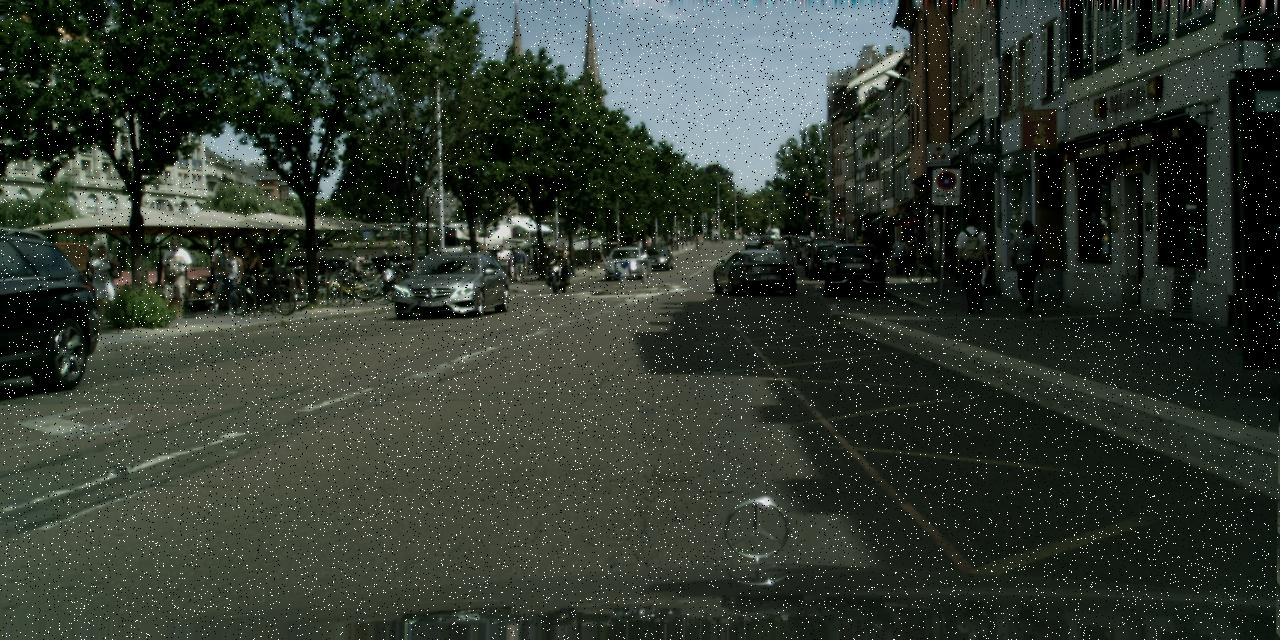ped: (952, 215, 992, 312), (1009, 220, 1046, 312), (87, 242, 120, 324), (157, 237, 190, 319), (207, 242, 236, 313), (219, 244, 246, 314), (208, 239, 235, 308), (234, 240, 260, 306), (240, 246, 264, 308), (458, 246, 474, 286), (475, 245, 491, 284), (892, 236, 907, 274), (552, 250, 567, 286), (512, 245, 526, 281), (505, 246, 519, 281), (496, 244, 508, 276), (545, 245, 556, 273), (762, 242, 773, 270), (559, 243, 569, 270), (643, 235, 651, 254), (636, 238, 643, 256), (787, 236, 792, 248), (713, 230, 718, 241), (725, 232, 727, 240)
